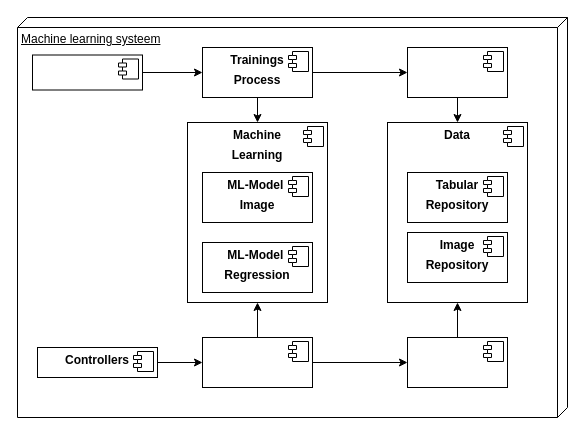
Image size: 585x435. Some labels were removed from this diagram. The shapes that lost their labels are listed below. From the top down, each one's box as (x1, y1, x2, y2) in pixels, then its label:
(32, 54, 142, 90): CronJob
(406, 46, 508, 98): Data Pipeline
(202, 336, 312, 388): Predict- Service
(406, 336, 508, 388): Data InsertionPipeline
